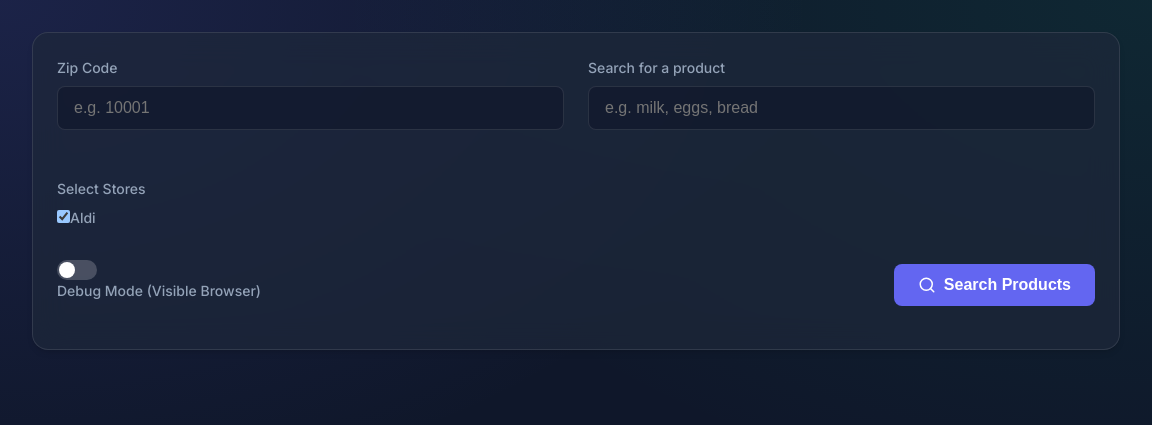
Test: SearchForm Component › when_zip_code_is_empty_disables_submit_or_shows_error
Note: Fill only product
Type "milk" into the field labelled "Search for a product" at (842, 108), box [588,86,1095,130]
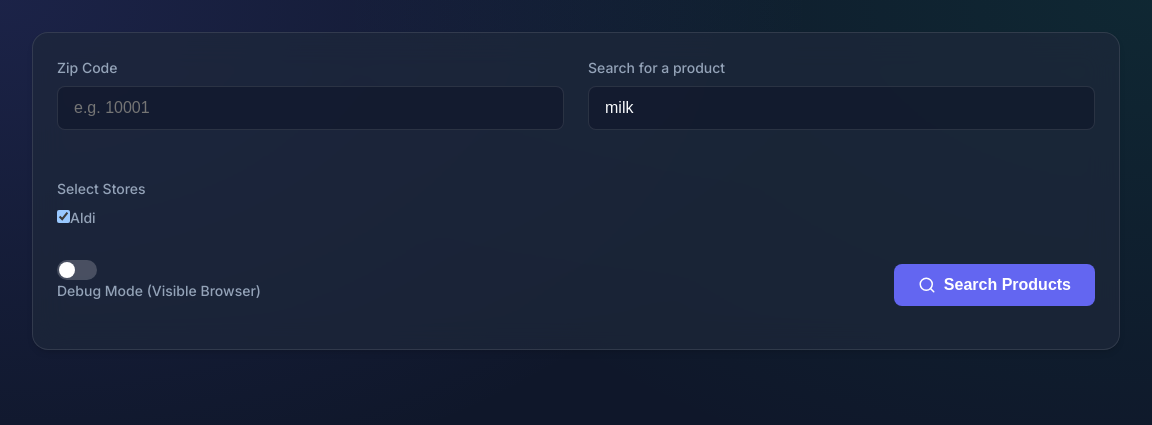
Click the button "Search Products" at (994, 284), box [894,264,1095,306]
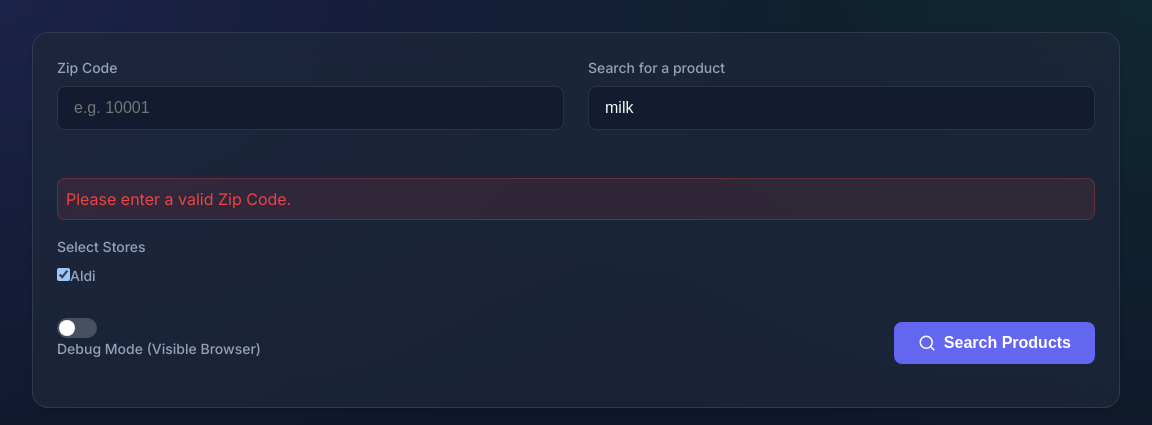
Result: the text "Please enter a valid Zip Code." is shown at [57,178,1095,220]
